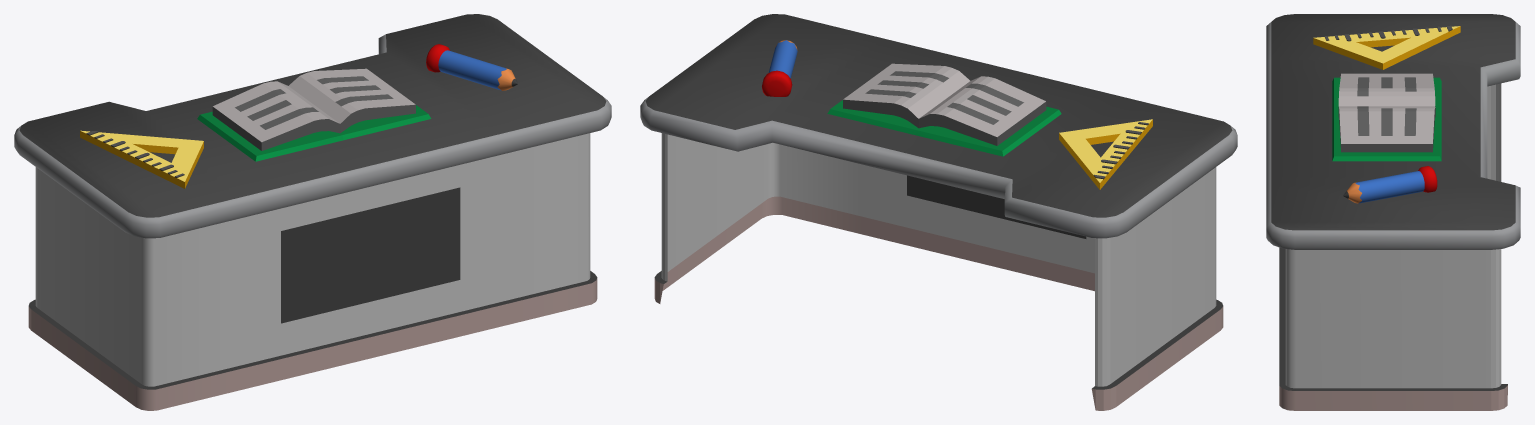
The model's file is Techer Table LEVEL-2.fbx.
3 renders of one model, left to right at view 1: azimuth 30°, elevation 25°; view 2: azimuth 150°, elevation 25°; view 3: azimuth 270°, elevation 25°, orthographic. The views are drawn at different scales.
Visible parts, largest first — view 1: Techer Table LEVEL-2; view 2: Techer Table LEVEL-2; view 3: Techer Table LEVEL-2.
Part boxes in pixels (x1,y1,x2,y2): Techer Table LEVEL-2: [14, 14, 611, 410]; Techer Table LEVEL-2: [640, 14, 1237, 410]; Techer Table LEVEL-2: [1266, 14, 1520, 410].
Size of the model in its own units: 13.99 by 6.08 by 6.82.
